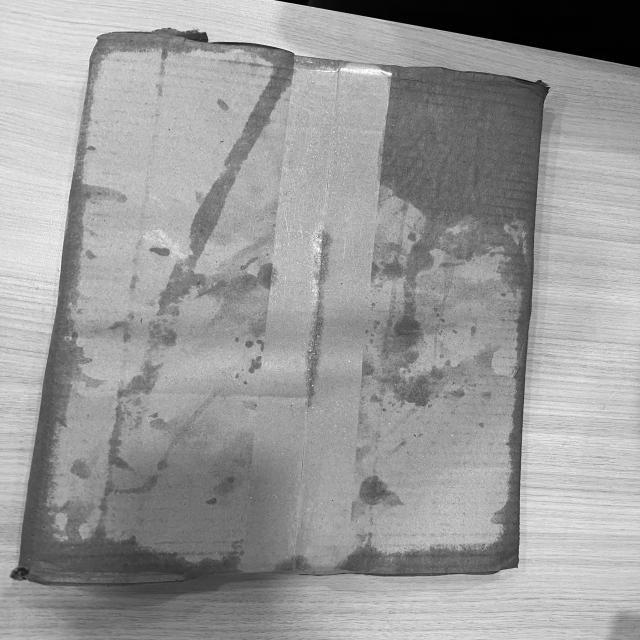wet: (358, 56, 536, 258), (39, 130, 94, 484), (81, 18, 296, 106), (7, 518, 235, 591), (344, 519, 537, 585)
